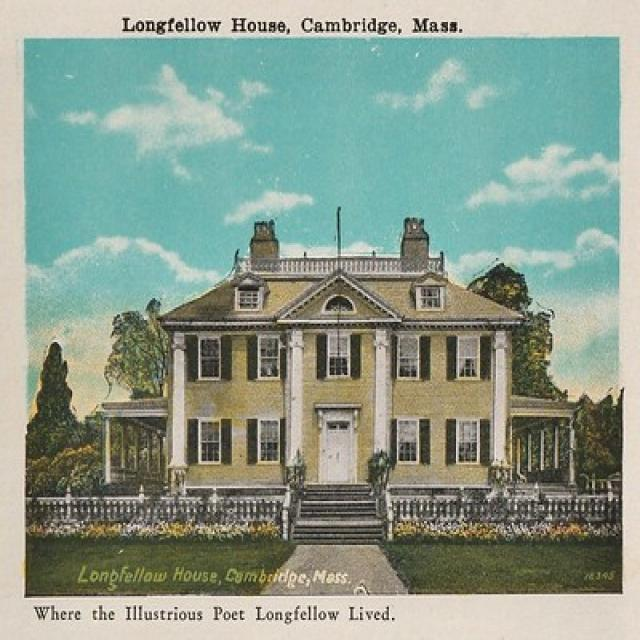Normal_building: (99, 218, 581, 541)
